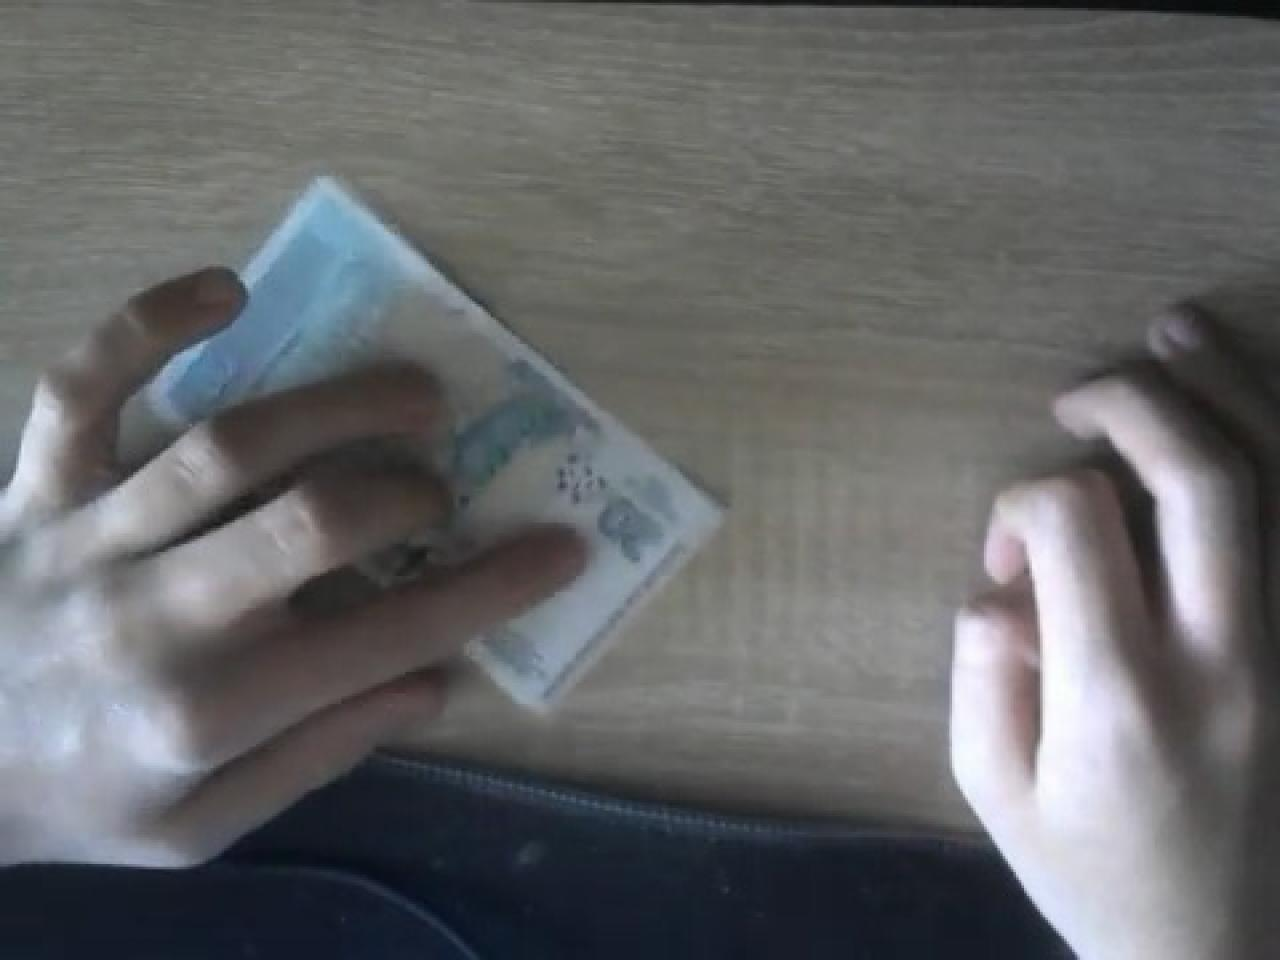20leva: (112, 170, 728, 709)
